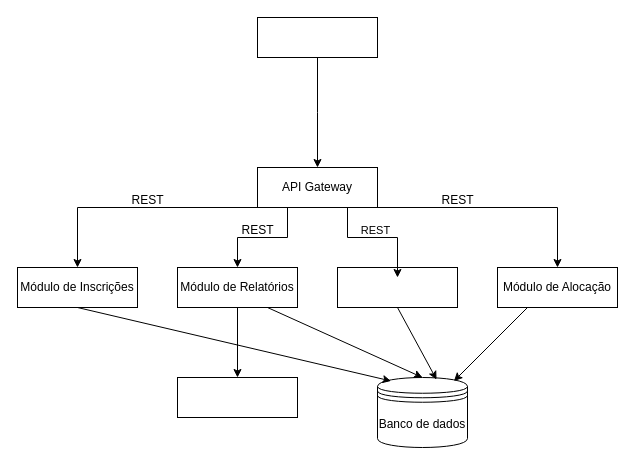
Image size: 635x465. Some labels were removed from this diagram. The centre of each missing label's shape, as x and y in pixels:
"Motor de Relatórios (Templates/Export)" goes at point (237, 397).
"Módulo de Resultados" goes at point (397, 287).
"UI Web (React/SPA)" goes at point (317, 37).
